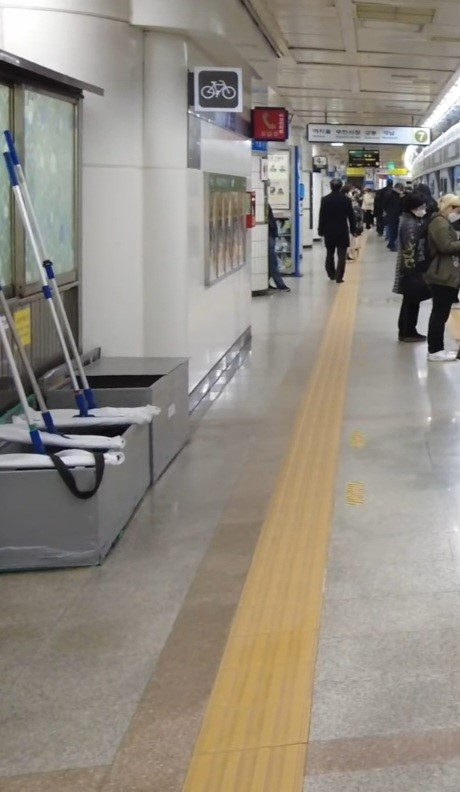guideBlock: (213, 673, 310, 762), (251, 551, 337, 617), (188, 746, 306, 792), (240, 586, 321, 651), (271, 469, 345, 536), (257, 512, 328, 570), (227, 621, 304, 666), (292, 407, 345, 464), (284, 445, 333, 484)
